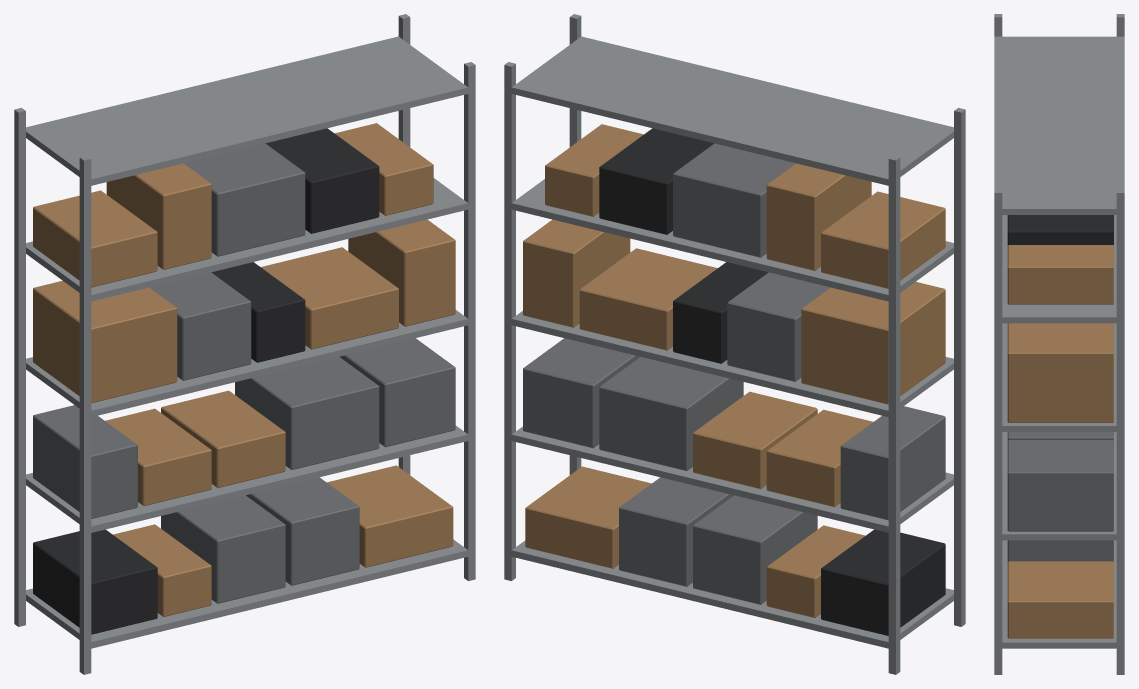
File: prop_shelving_it_w160.glb
The picture shows the model from 3 angles, left to right: view 1: azimuth 30°, elevation 25°; view 2: azimuth 150°, elevation 25°; view 3: azimuth 270°, elevation 25°; orthographic projection. The views are drawn at different scales.
Visible parts, largest first — view 1: Shelving; view 2: Shelving; view 3: Shelving.
Part boxes in pixels (box(x1,y1,x2,y2)): Shelving: box(14, 14, 475, 674); Shelving: box(504, 14, 965, 674); Shelving: box(994, 14, 1124, 674).
Size of what is drawn, in the model's own units: 1.59 by 2 by 0.49.
